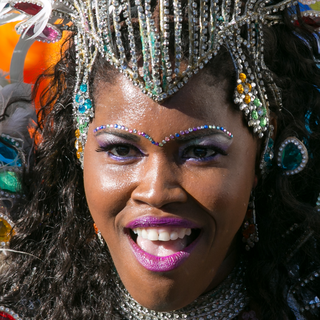eye: (178, 142, 227, 166), (100, 140, 143, 164)
